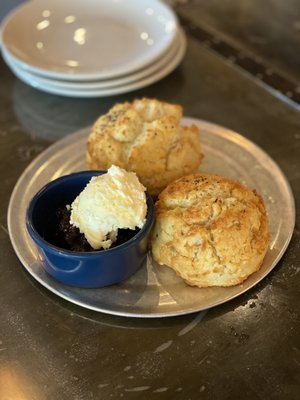sushi: (0, 0, 187, 99), (27, 169, 155, 289)
